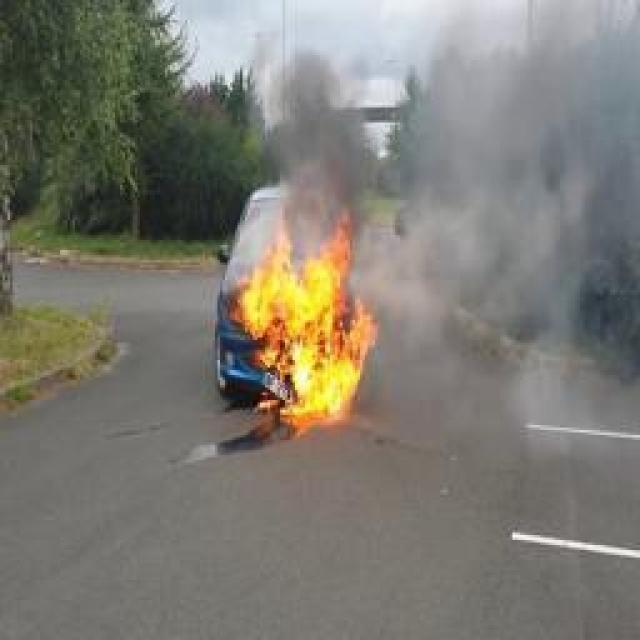Fire: (230, 202, 378, 426)
